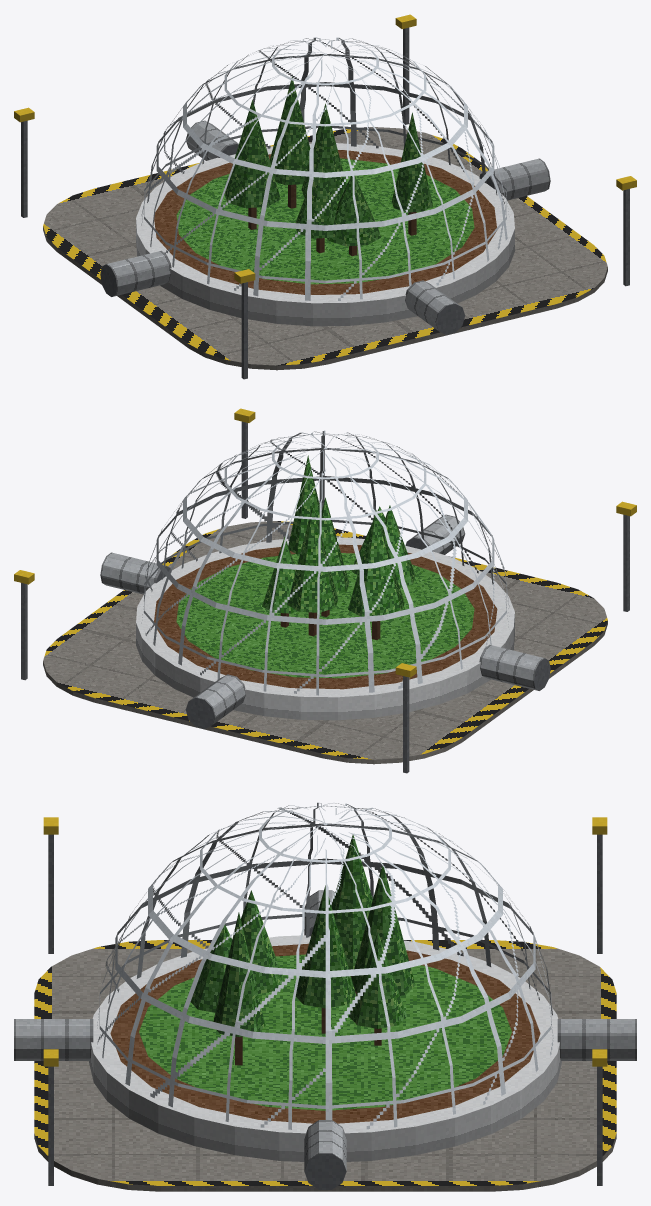
Rendered from mars_5_inhab_namesti.glb.
3 renders of one model, top to bottom at view 1: azimuth 30°, elevation 25°; view 2: azimuth 150°, elevation 25°; view 3: azimuth 270°, elevation 25°, orthographic. The views are drawn at different scales.
Parts seen in each view (by area): view 1: inhab_namesti; view 2: inhab_namesti; view 3: inhab_namesti.
Boxes of the visible parts, left/top/right/bottom form: inhab_namesti: left=14, top=14, right=636, bottom=379; inhab_namesti: left=14, top=408, right=636, bottom=773; inhab_namesti: left=14, top=802, right=636, bottom=1191.
Size of the model in its own units: 14.76 by 6.4 by 14.76.
Materials: 1 (1 with a texture image).
